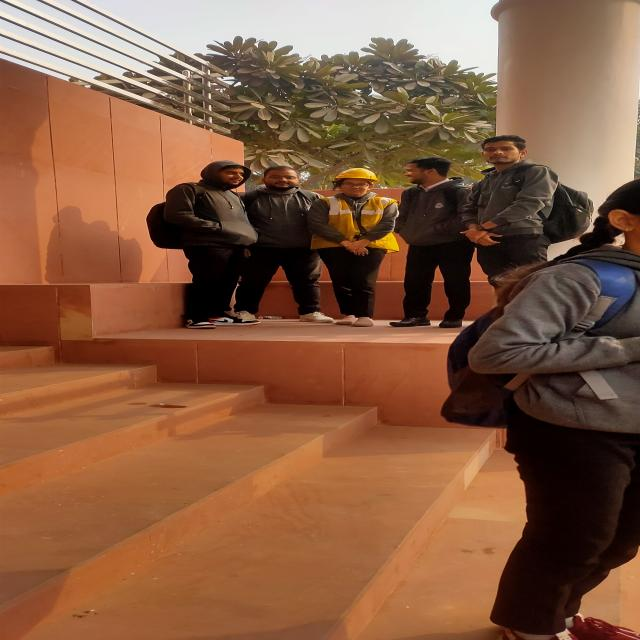safe: (312, 162, 396, 326)
unsafe: (394, 157, 478, 331), (180, 161, 254, 329), (256, 164, 329, 329), (481, 134, 555, 275)
